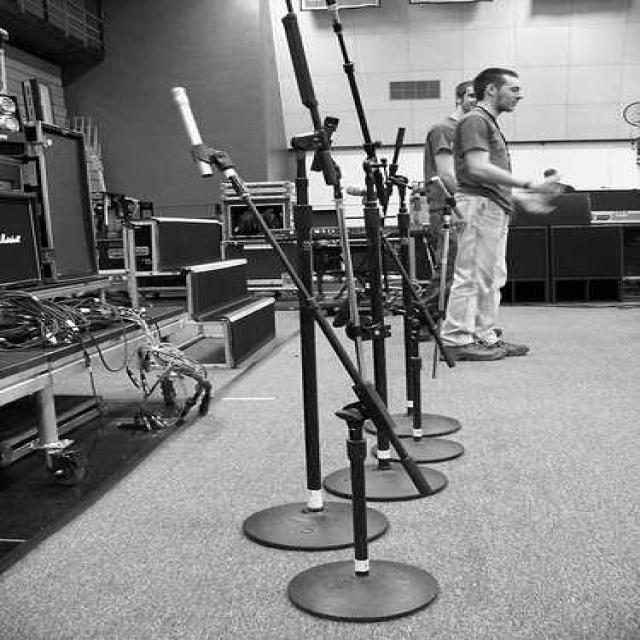microphone: (162, 80, 223, 192), (273, 12, 327, 121), (320, 0, 354, 39), (342, 184, 380, 196)
